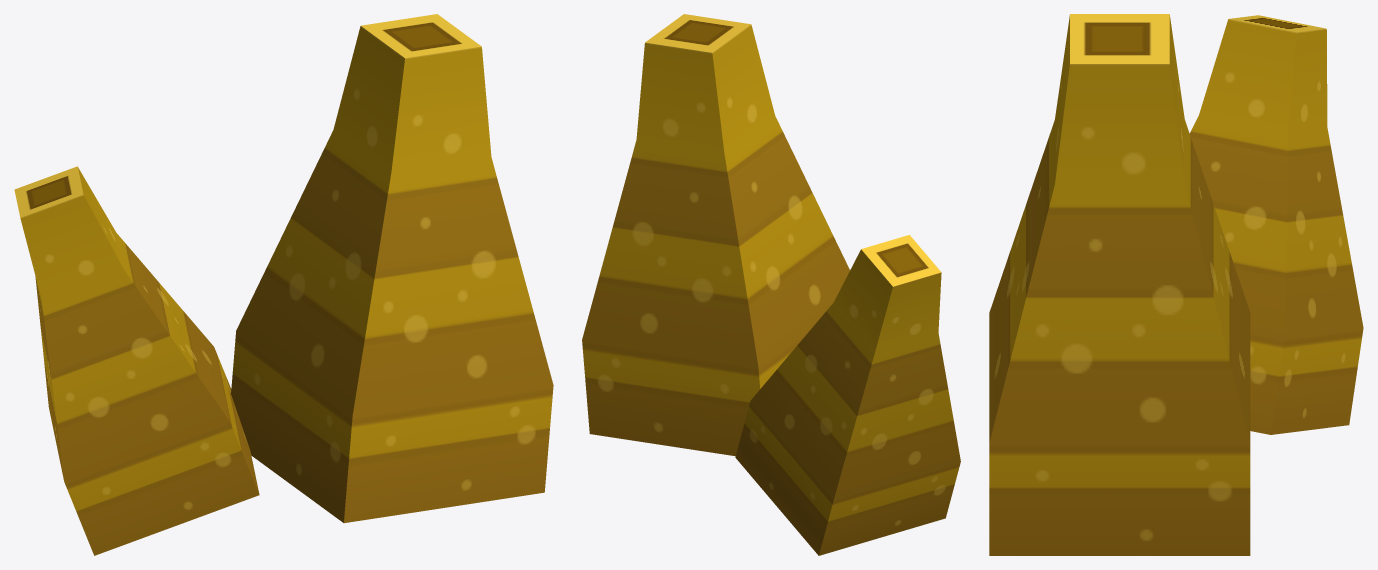
The model's file is BG_010_coral.FBX.
The picture shows the model from 3 angles, left to right: view 1: azimuth 30°, elevation 25°; view 2: azimuth 150°, elevation 25°; view 3: azimuth 270°, elevation 25°; orthographic projection. The views are drawn at different scales.
Visible parts, largest first — view 1: coral_01, coral_02; view 2: coral_01, coral_02; view 3: coral_01, coral_02.
Part boxes in pixels (bbox=[...]): coral_01: bbox=[231, 14, 553, 523]; coral_02: bbox=[14, 166, 259, 555]; coral_01: bbox=[582, 14, 849, 456]; coral_02: bbox=[735, 235, 960, 555]; coral_01: bbox=[989, 14, 1250, 555]; coral_02: bbox=[1189, 15, 1363, 434].
Bounding box in the file's own units: 205 × 220 × 143.
